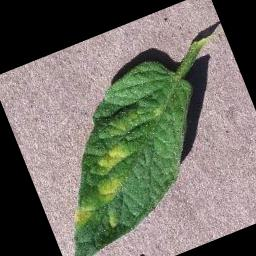Leaf_Mold: (91, 142, 136, 177), (93, 172, 135, 207), (68, 201, 101, 231)
